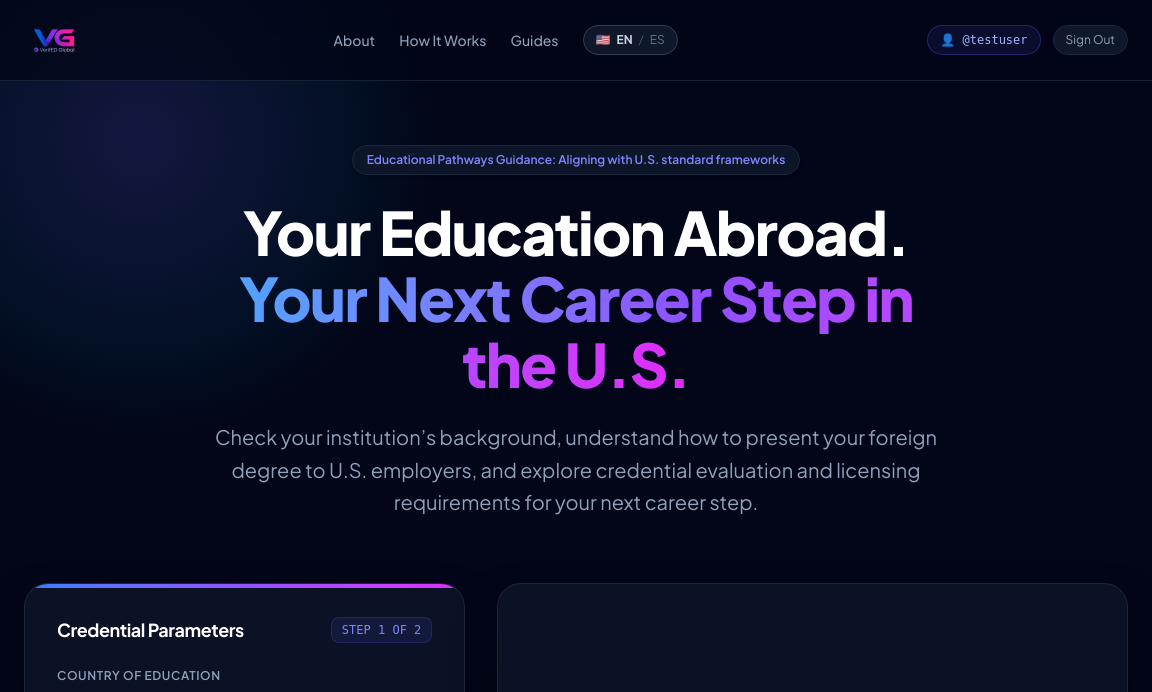
Scenario: Evaluator — language-aware results › shows Spanish evaluator heading when ES is active
Click the button with test id "button-lang-toggle" at (630, 40), box [582,25,678,55]
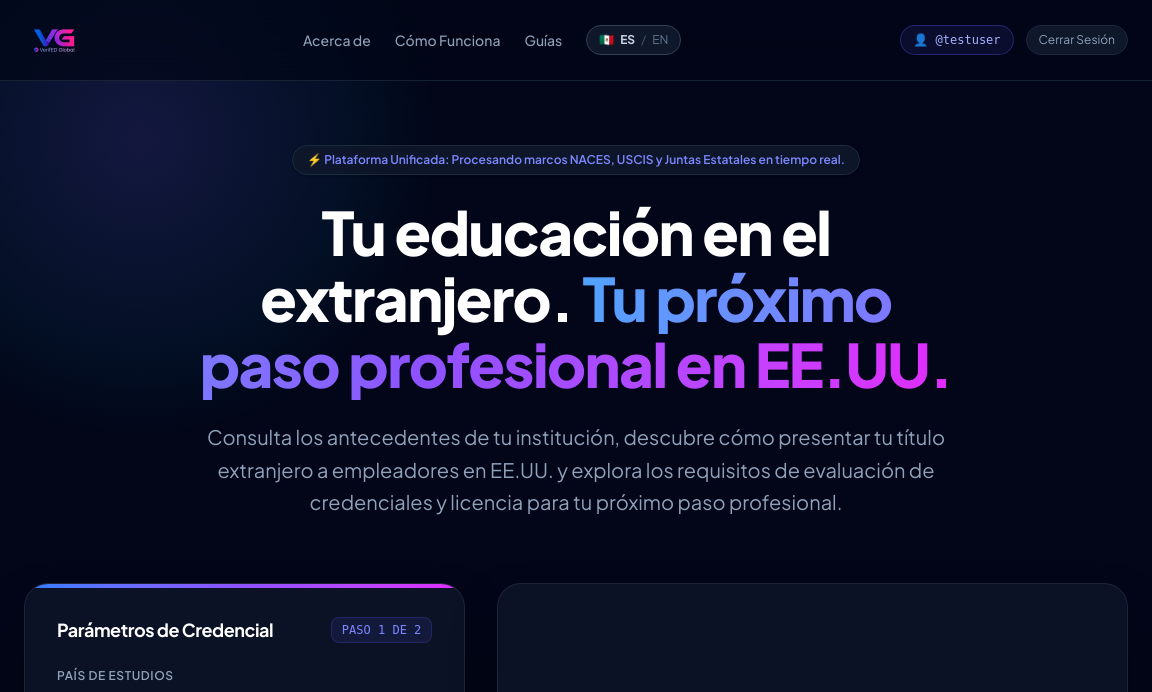
expect the heading "Tu educación en el extranjero." is shown: met, box [260,194,830,335]
